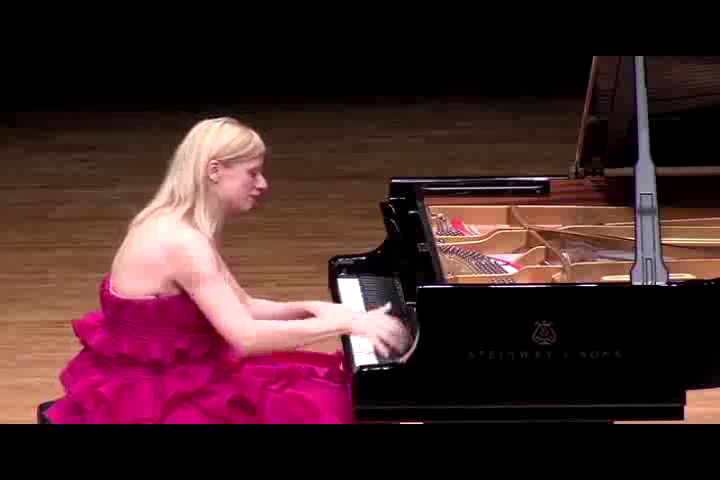keyboard: (335, 268, 418, 383)
